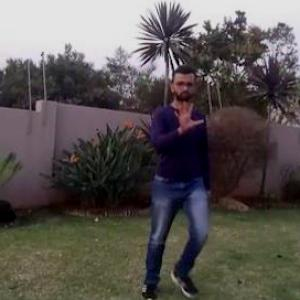follow_hand: (170, 97, 206, 136)
